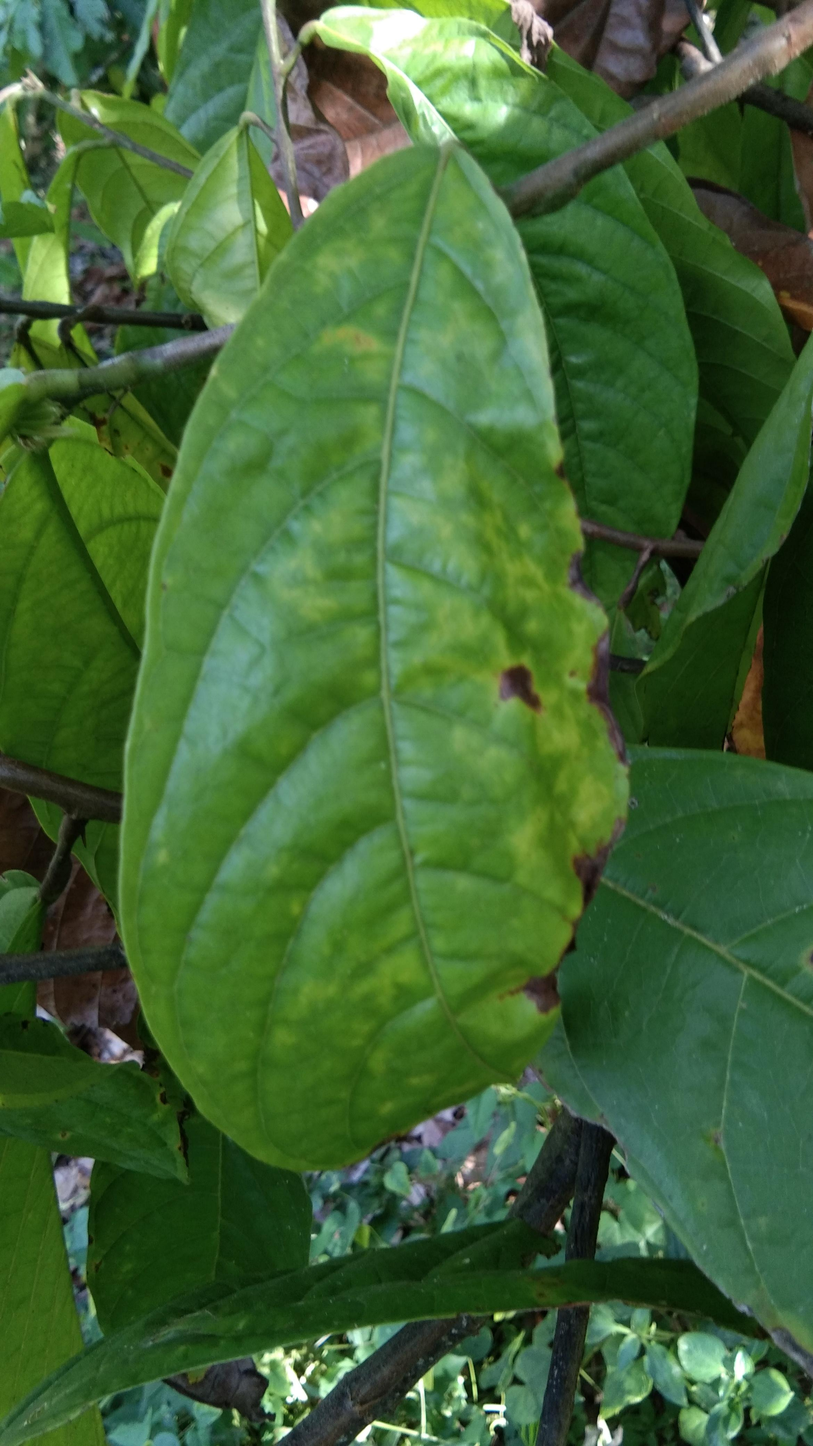deficiencia_potasio: (101, 123, 654, 1249)
